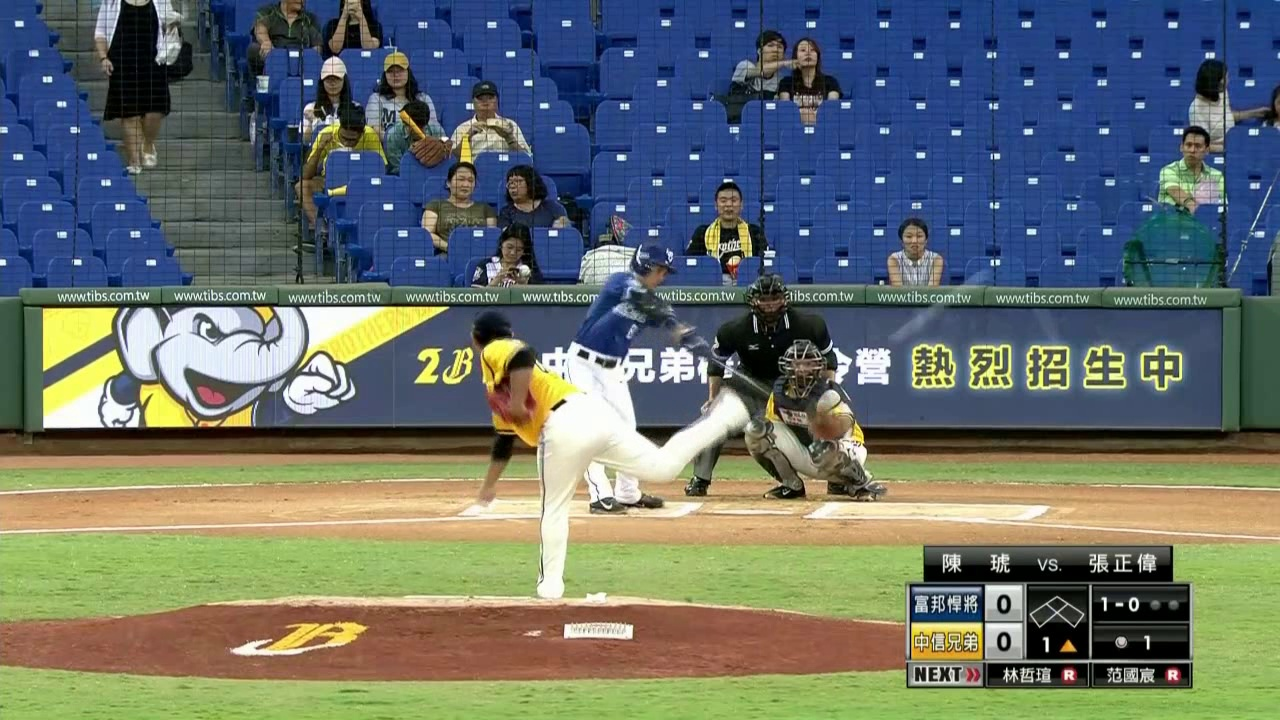ball: (914, 314, 926, 326)
base: (1027, 591, 1090, 631)
bat: (684, 341, 795, 413)
out: (1147, 592, 1183, 616)
score1: (988, 588, 1020, 619)
score2: (989, 629, 1020, 658)
session: (1031, 633, 1088, 658)
strikeball: (1097, 592, 1147, 615)
total: (1104, 630, 1158, 657)
